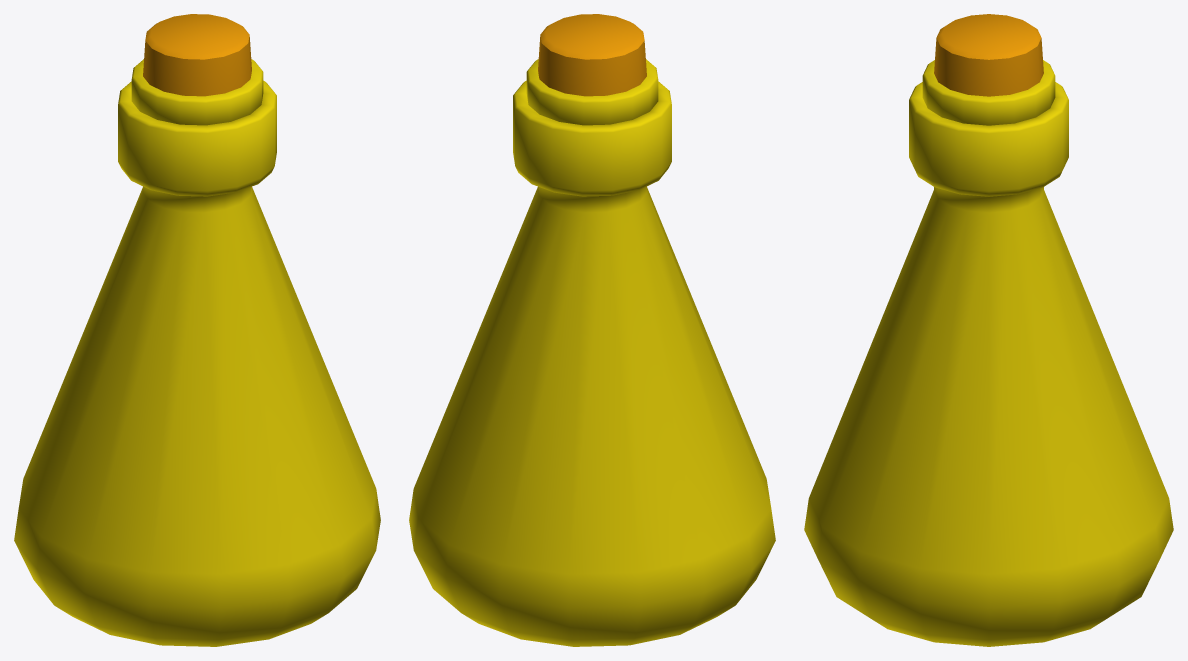
File: SuperPotion.fbx
3 renders of one model, left to right at view 1: azimuth 30°, elevation 25°; view 2: azimuth 150°, elevation 25°; view 3: azimuth 270°, elevation 25°, orthographic.
Parts seen in each view (by area): view 1: Glass, Cork; view 2: Glass, Cork; view 3: Glass, Cork.
Boxes of the visible parts, <box> form: Glass: <box>14,59,380,646</box>; Cork: <box>143,14,251,96</box>; Glass: <box>409,59,775,646</box>; Cork: <box>538,14,646,96</box>; Glass: <box>804,60,1173,646</box>; Cork: <box>934,14,1043,96</box>.
Bounding box in the file's own units: 10.41 × 17.55 × 10.41.
